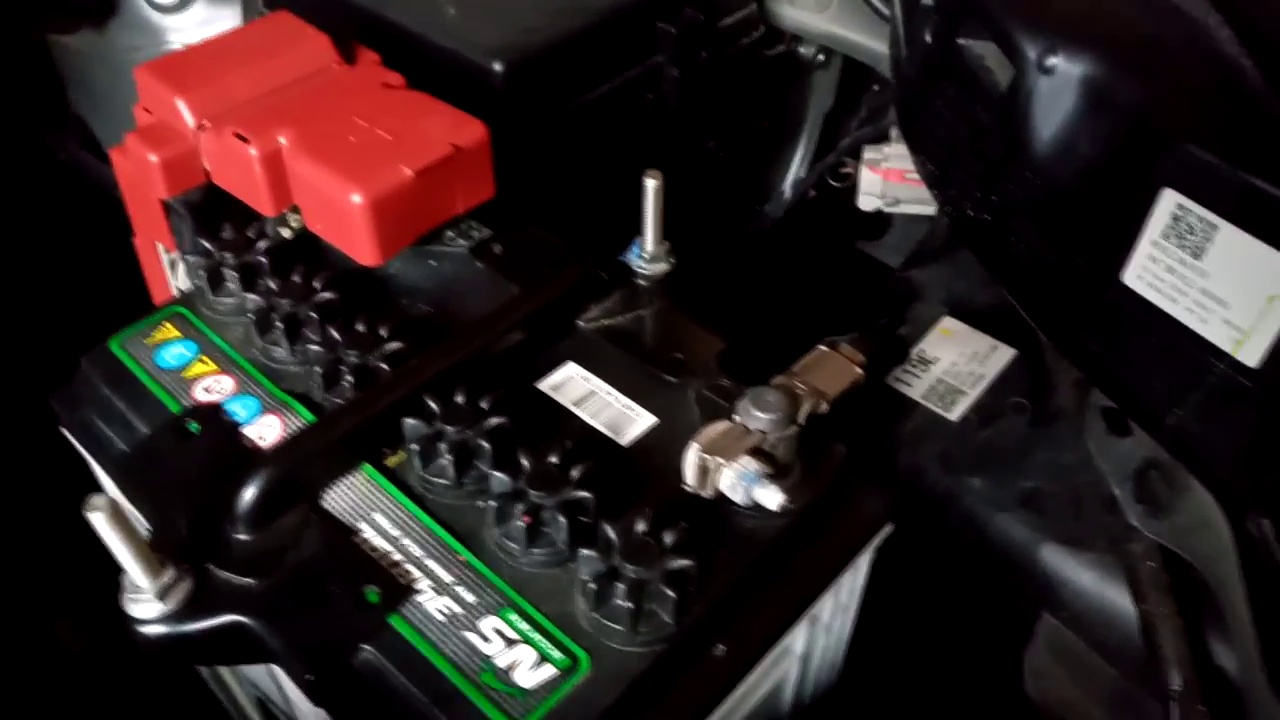battery: (67, 57, 869, 694)
neg_connected: (680, 298, 877, 537)
pos_connected: (109, 32, 499, 295)
